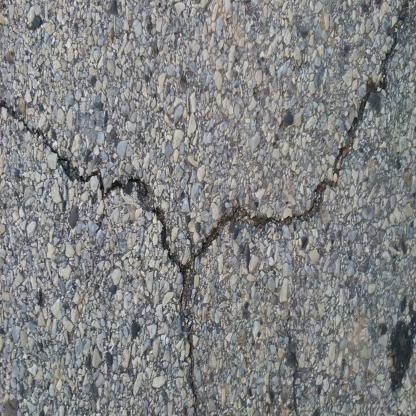Cracks: (0, 0, 414, 282), (174, 261, 203, 415)
